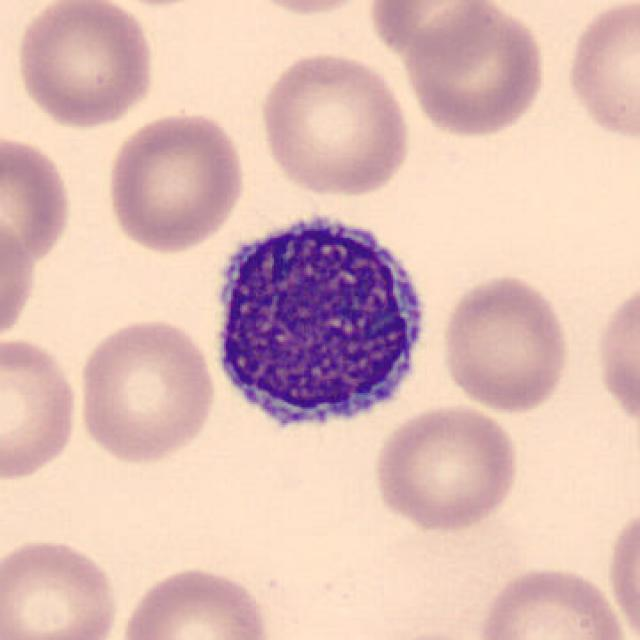Lymphocyte: (199, 196, 441, 448)
RBC: (252, 48, 416, 199), (73, 314, 220, 467), (103, 107, 249, 255), (400, 0, 551, 141), (368, 400, 523, 534), (438, 270, 574, 416), (10, 0, 160, 130), (0, 532, 123, 640), (114, 562, 277, 640), (473, 560, 631, 640), (0, 331, 82, 485), (560, 0, 638, 145), (0, 128, 76, 269), (366, 0, 496, 62), (592, 270, 638, 441), (0, 204, 39, 351), (604, 497, 640, 640), (229, 0, 384, 18)
